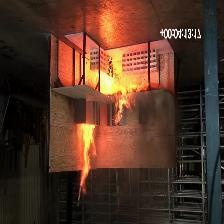fire: (69, 108, 111, 197), (92, 51, 143, 121)
